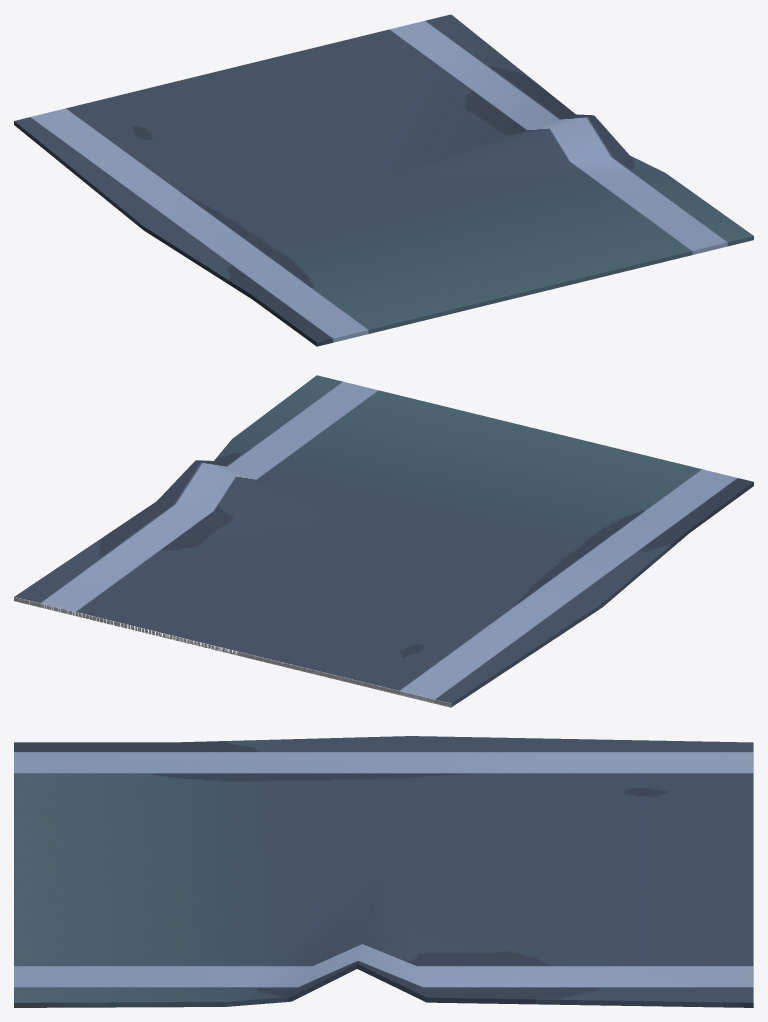
File: Carpet 01 Center 03.fbx
The picture shows the model from 3 angles, top to bottom: view 1: azimuth 30°, elevation 25°; view 2: azimuth 150°, elevation 25°; view 3: azimuth 270°, elevation 25°; orthographic projection. The views are drawn at different scales.
Parts seen in each view (by area): view 1: Carpet 01 Center 03.002; view 2: Carpet 01 Center 03.002; view 3: Carpet 01 Center 03.002.
Part boxes in pixels (left/top/right/bottom): Carpet 01 Center 03.002: left=14, top=14, right=753, bottom=346; Carpet 01 Center 03.002: left=14, top=375, right=753, bottom=707; Carpet 01 Center 03.002: left=14, top=736, right=753, bottom=1007.
Bounding box in the file's own units: 171 × 9.74 × 200.
